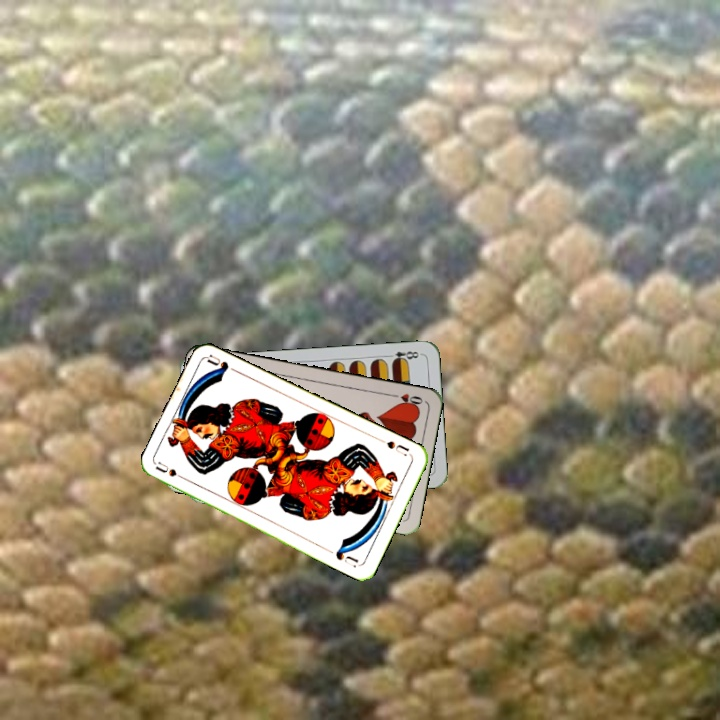E8: (383, 347, 423, 365)
HO: (386, 389, 425, 409)
SU: (153, 458, 192, 484), (375, 435, 414, 459)
